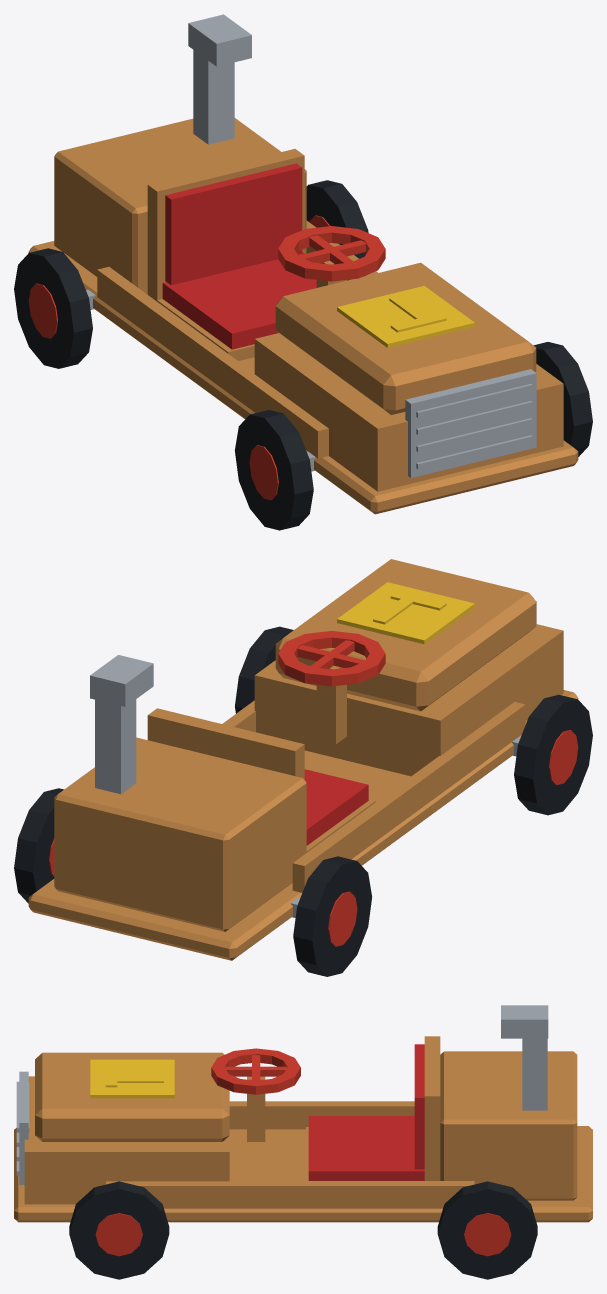
File: veh_derby_racer_1p.glb
3 views of the same model, one above another, from view 1: azimuth 30°, elevation 25°; view 2: azimuth 150°, elevation 25°; view 3: azimuth 270°, elevation 25° (orthographic). The views are drawn at different scales.
Parts seen in each view (by area): view 1: body, seat_cushion, derby_wheel, washboard_grille, hood_badge, steer_spin, wheel_hub; view 2: body, derby_wheel, washboard_grille, hood_badge, steer_spin, seat_cushion, wheel_hub; view 3: body, derby_wheel, seat_cushion, washboard_grille, hood_badge, steer_spin, wheel_hub.
Part boxes in pixels (<box>): body: <box>28,118,578,514</box>; seat_cushion: <box>162,163,316,349</box>; derby_wheel: <box>14,180,592,530</box>; washboard_grille: <box>86,14,536,477</box>; hood_badge: <box>337,286,474,347</box>; steer_spin: <box>278,226,385,281</box>; wheel_hub: <box>28,215,329,500</box>; body: <box>28,559,578,960</box>; derby_wheel: <box>14,626,592,976</box>; washboard_grille: <box>90,600,536,917</box>; hood_badge: <box>337,582,474,644</box>; steer_spin: <box>278,631,385,686</box>; seat_cushion: <box>304,769,368,845</box>; wheel_hub: <box>49,730,578,946</box>; body: <box>14,1036,592,1222</box>; derby_wheel: <box>69,1181,537,1279</box>; seat_cushion: <box>308,1044,424,1180</box>; washboard_grille: <box>16,1005,548,1184</box>; hood_badge: <box>90,1059,174,1098</box>; steer_spin: <box>211,1048,300,1094</box>; wheel_hub: <box>95,1213,511,1256</box>.
Size of the model in its own units: 1.1 by 0.95 by 2.2.
